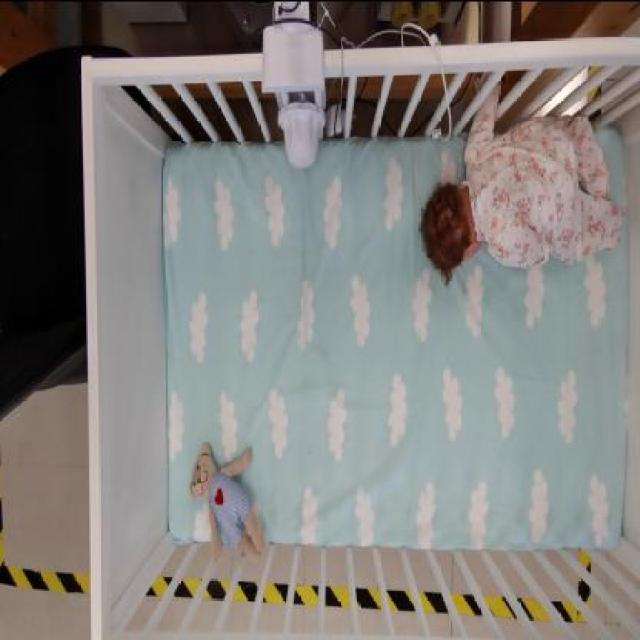baby: (414, 66, 628, 292)
